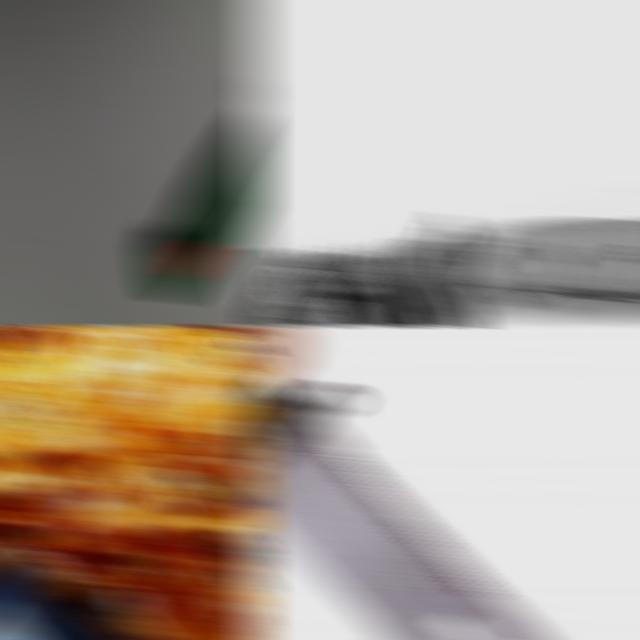Knife: (246, 382, 552, 640), (246, 216, 640, 326), (142, 117, 266, 304)
